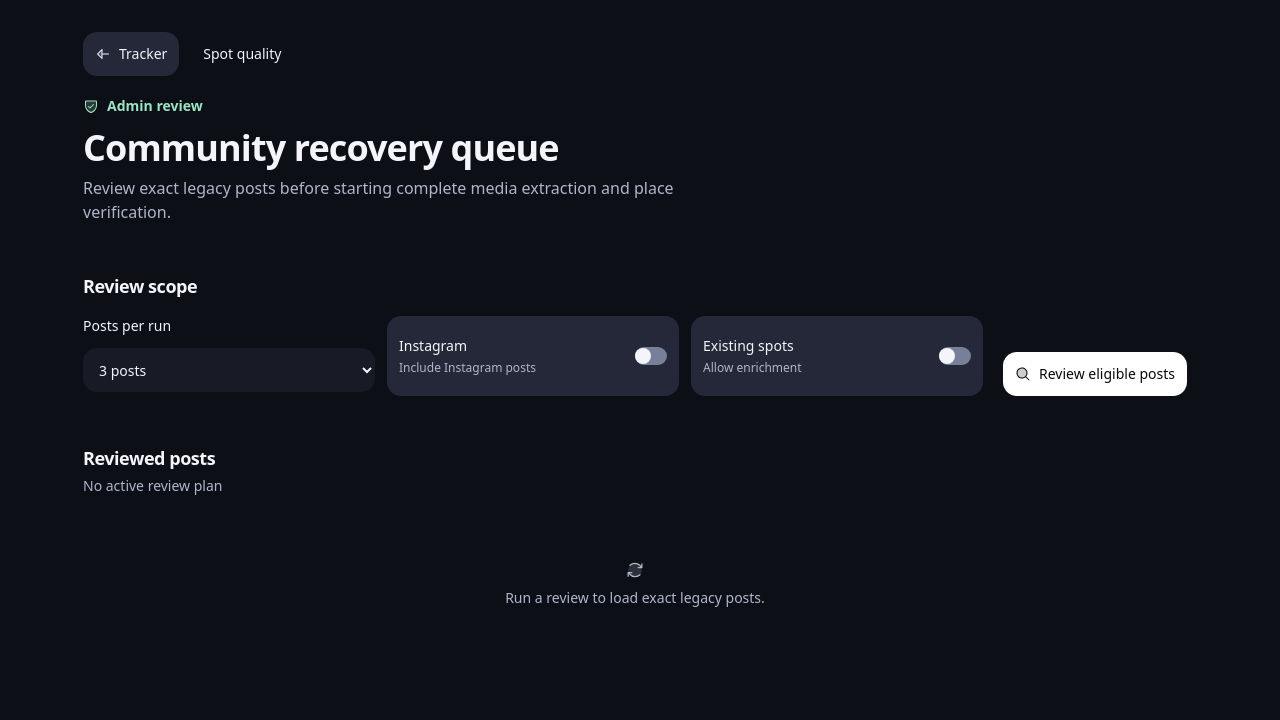
Test case: SocialSubmissionRecovery › announces API failures without exposing an execution control
Click the switch named "Include Instagram posts" at (651, 356), box [635, 347, 667, 365]
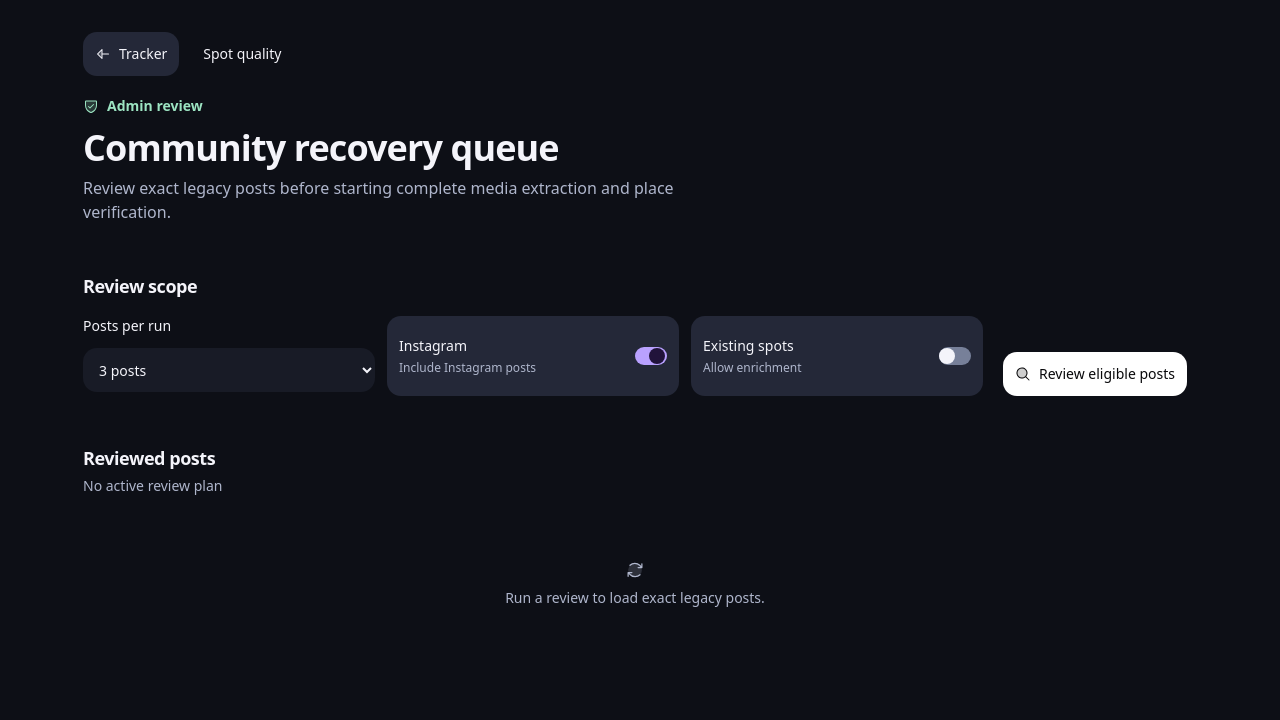
Click the button "Review eligible posts" at (1095, 374), box [1003, 352, 1187, 396]
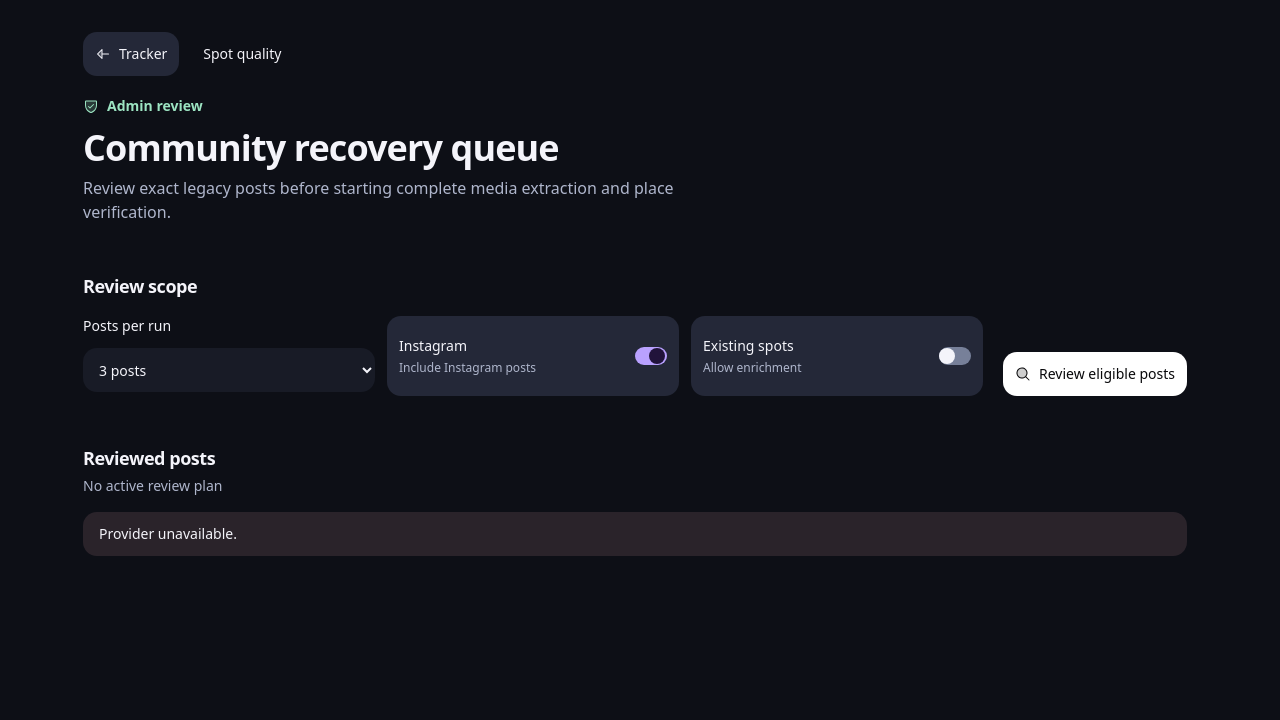
Expected: the message reads "Provider unavailable.", [99, 524, 237, 543]
